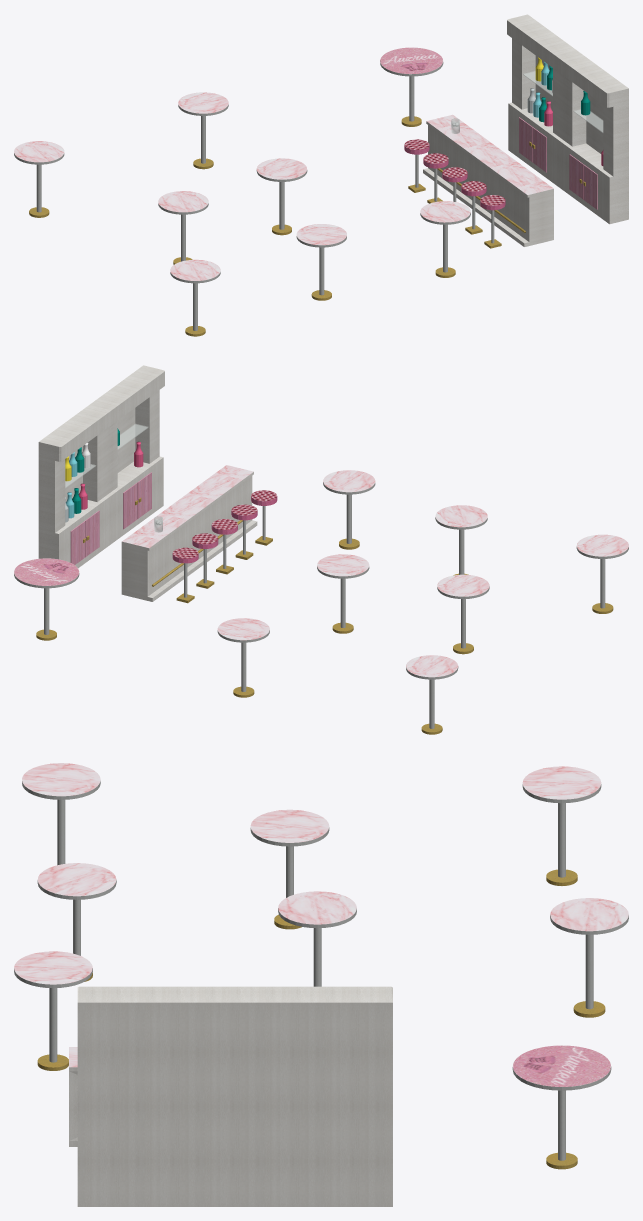
The model's file is bar.obj.
3 renders of one model, top to bottom at view 1: azimuth 30°, elevation 25°; view 2: azimuth 150°, elevation 25°; view 3: azimuth 270°, elevation 25°, orthographic. The views are drawn at different scales.
Parts seen in each view (by area): view 1: whiteWood, tableTops, tableLegs, barTop, pinkWood, gold, auzrea, stoolTops, stoolSides, stoolLegs, mesh1232155188, mesh149170008; view 2: whiteWood, tableTops, tableLegs, barTop, pinkWood, gold, auzrea, stoolTops, stoolSides, stoolLegs, stoolBases; view 3: whiteWood, tableTops, tableLegs, auzrea, gold.
Part boxes in pixels (bbox=[...]): whiteWood: bbox=[423, 14, 628, 246]; tableTops: bbox=[14, 92, 470, 280]; tableLegs: bbox=[14, 60, 470, 330]; barTop: bbox=[426, 114, 553, 194]; pinkWood: bbox=[519, 117, 597, 209]; gold: bbox=[29, 116, 585, 336]; auzrea: bbox=[380, 47, 443, 74]; stoolTops: bbox=[404, 139, 505, 205]; stoolSides: bbox=[404, 145, 505, 210]; stoolLegs: bbox=[415, 154, 494, 243]; mesh1232155188: bbox=[523, 71, 603, 132]; mesh149170008: bbox=[539, 65, 590, 122]; whiteWood: bbox=[38, 365, 257, 601]; tableTops: bbox=[217, 470, 628, 677]; tableLegs: bbox=[14, 482, 628, 728]; barTop: bbox=[122, 465, 253, 548]; pinkWood: bbox=[70, 472, 151, 564]; gold: bbox=[36, 497, 613, 734]; auzrea: bbox=[14, 558, 79, 585]; stoolTops: bbox=[172, 490, 276, 558]; stoolSides: bbox=[172, 496, 277, 563]; stoolLegs: bbox=[184, 506, 265, 597]; stoolBases: bbox=[176, 536, 272, 603]; whiteWood: bbox=[69, 986, 392, 1206]; tableTops: bbox=[14, 763, 628, 984]; tableLegs: bbox=[14, 781, 628, 1160]; auzrea: bbox=[512, 1045, 611, 1086]; gold: bbox=[37, 869, 605, 1169].
Size of the model in its own units: 0.2102 by 0.058 by 0.156.
Materials: 18 (10 with a texture image).
